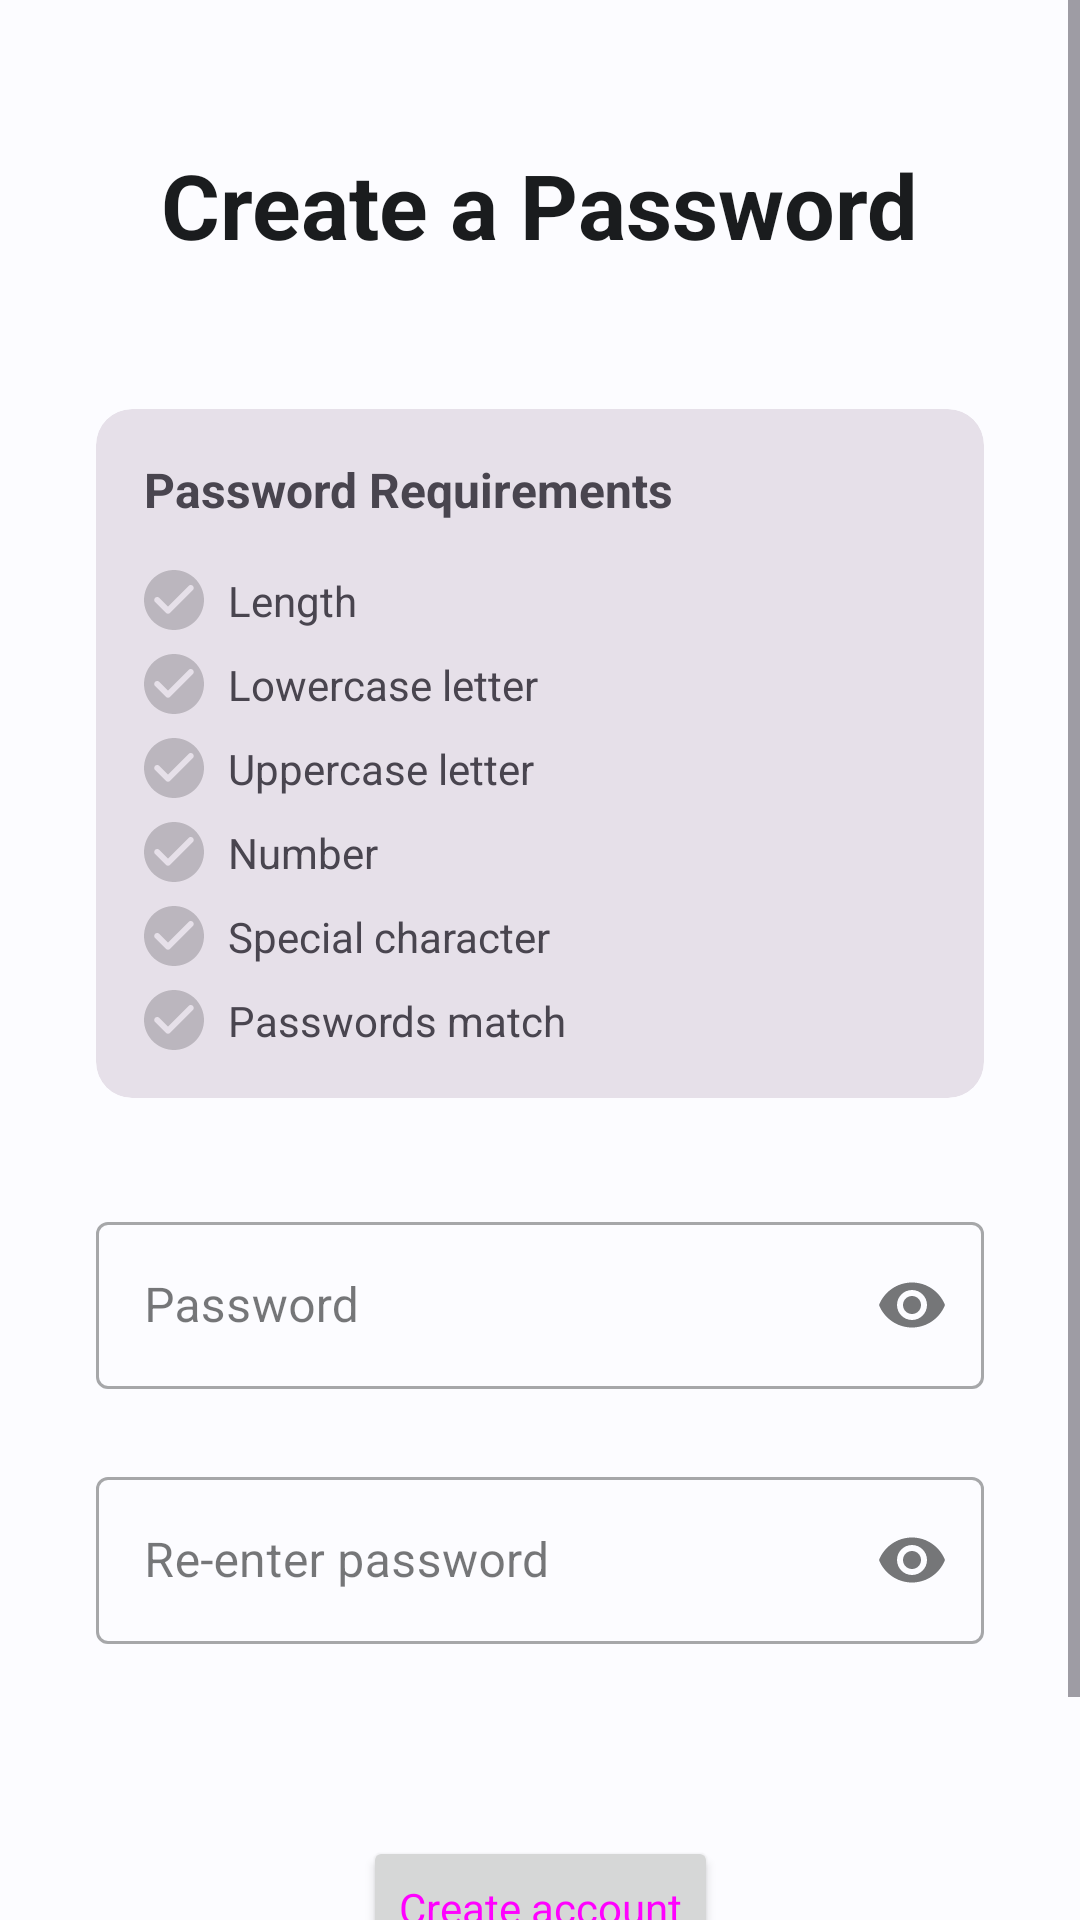

Screen size 1080 x 1920. Icon name, then its box in pixels as Rect(x1, y1, x2, y2):
check circle: Rect(144, 570, 204, 630), Rect(144, 654, 204, 714), Rect(144, 738, 204, 798), Rect(144, 822, 204, 882), Rect(144, 906, 204, 966), Rect(144, 990, 204, 1050)
